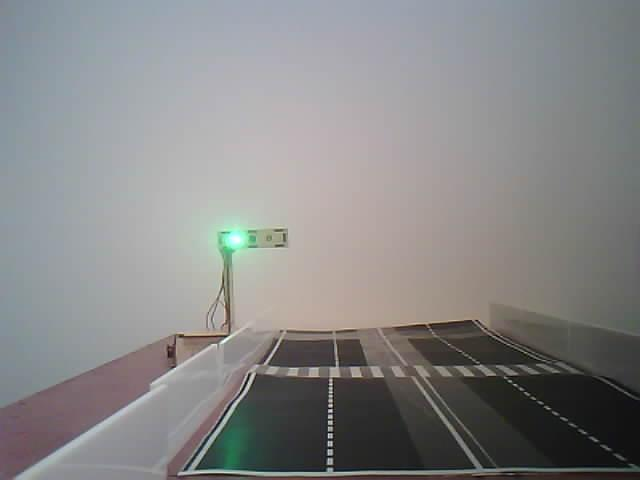crosswalk: (248, 352, 599, 388)
green: (209, 221, 298, 324)
